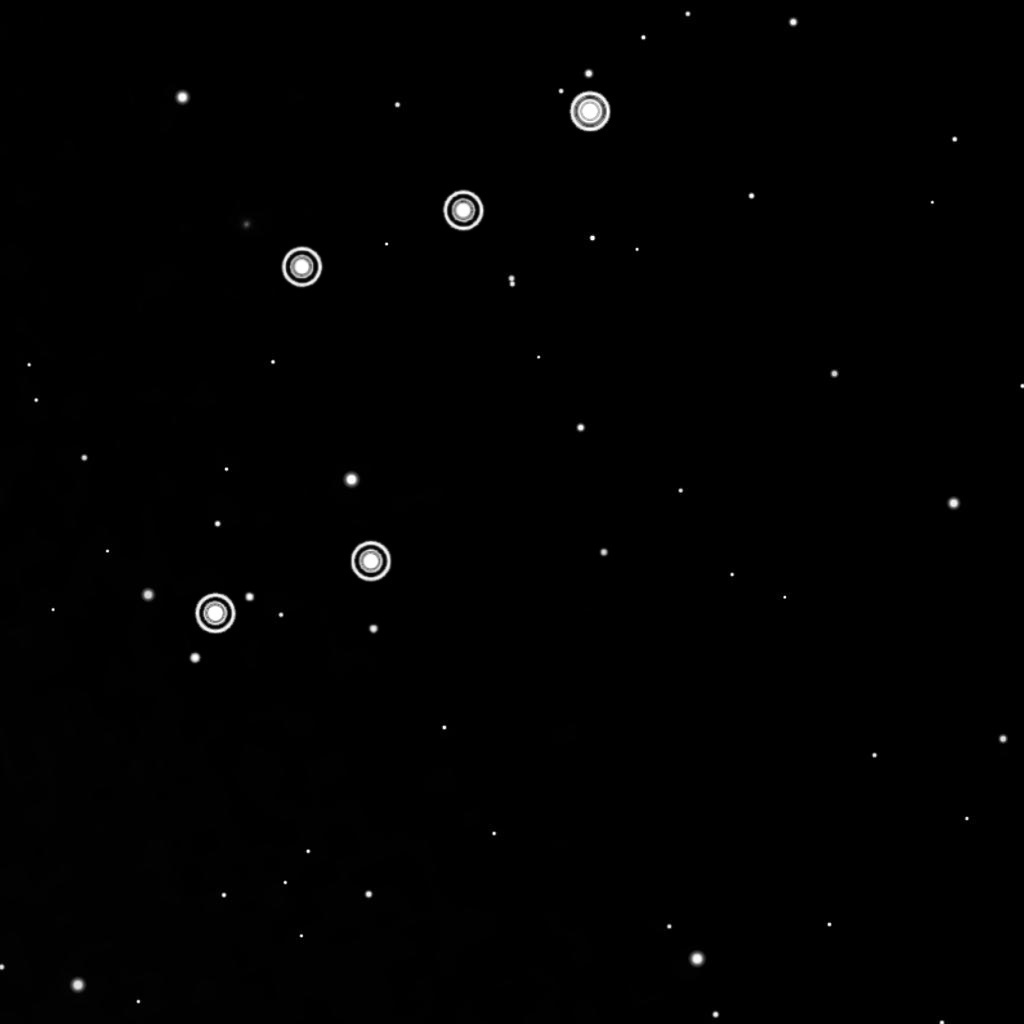lyra: (184, 81, 613, 642)
